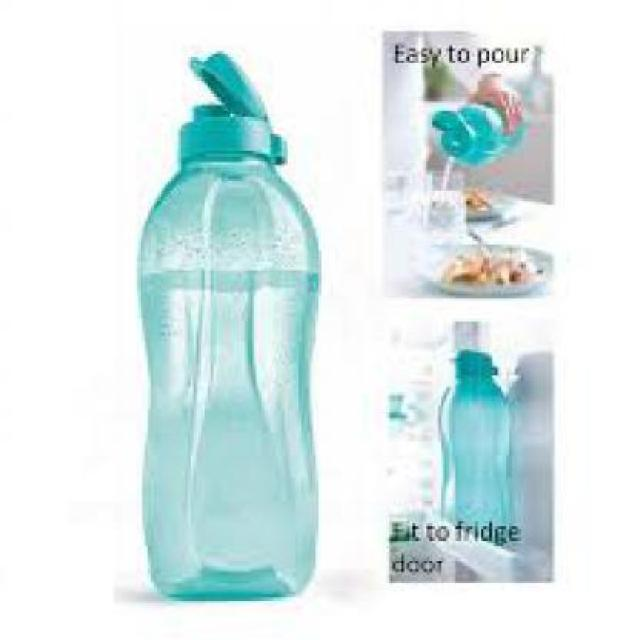Drinking: (139, 54, 330, 609), (378, 66, 549, 281)
